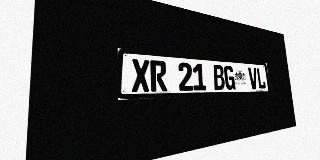1: (192, 63, 206, 91)
2: (178, 62, 193, 91)
B: (212, 65, 225, 90)
G: (223, 65, 235, 90)
L: (256, 68, 266, 89)
R: (150, 60, 167, 92)
V: (248, 67, 258, 89)
X: (131, 59, 150, 92)
